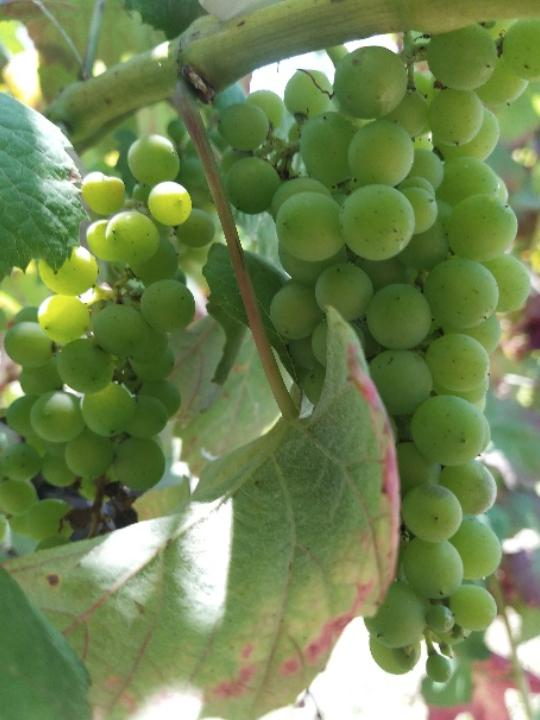grape: (213, 15, 540, 681), (1, 137, 213, 542)
